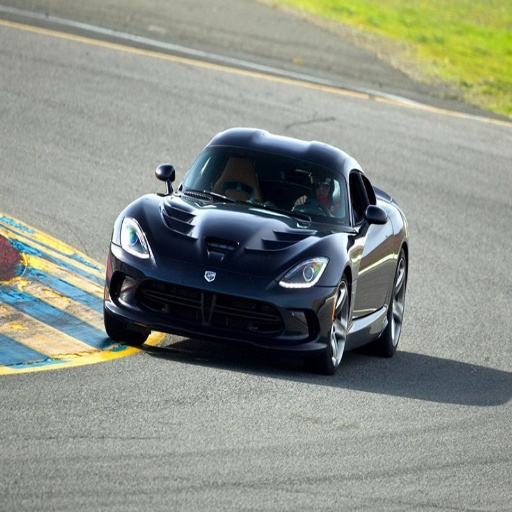back_glass: (263, 148, 342, 191)
front_bumper: (113, 215, 335, 351)
front_glass: (182, 144, 260, 210), (277, 185, 336, 227)
front_right_door: (350, 172, 389, 317)
